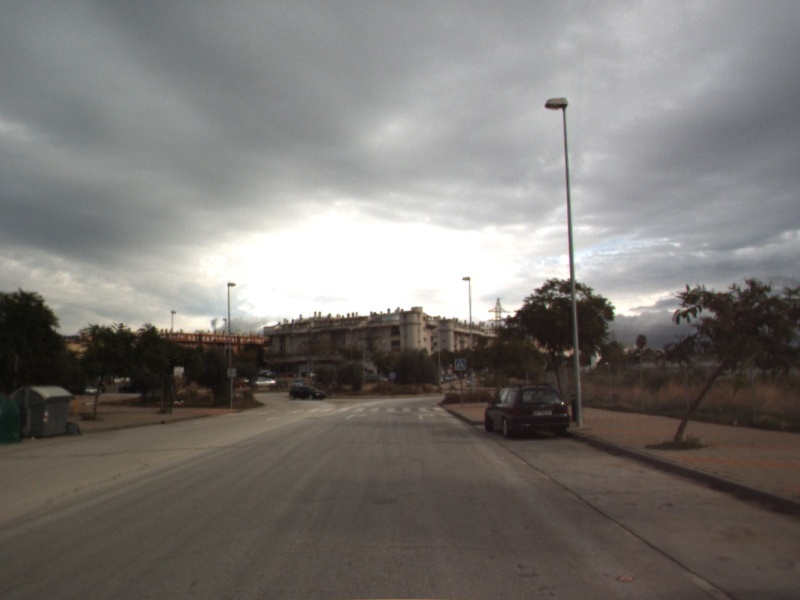RIGHT: (344, 411, 370, 421), (416, 411, 437, 421)
